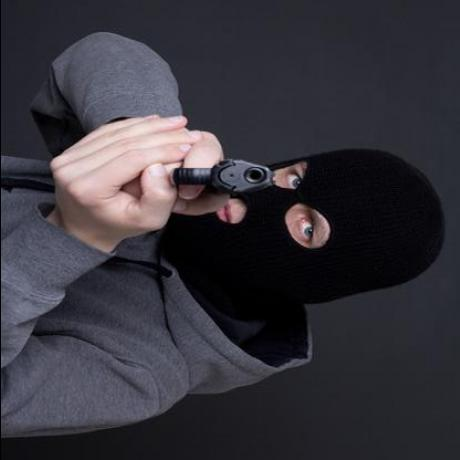1: (2, 31, 449, 438)
weapon: (154, 149, 284, 208)
